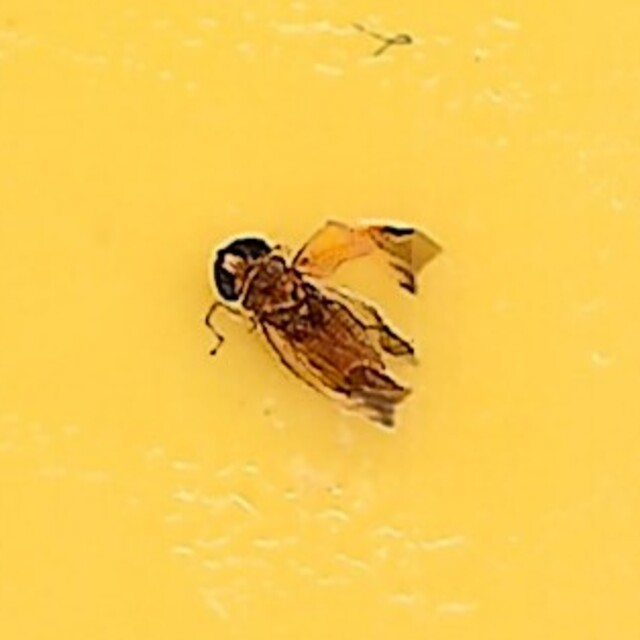Hemiptera: (204, 211, 436, 429)
